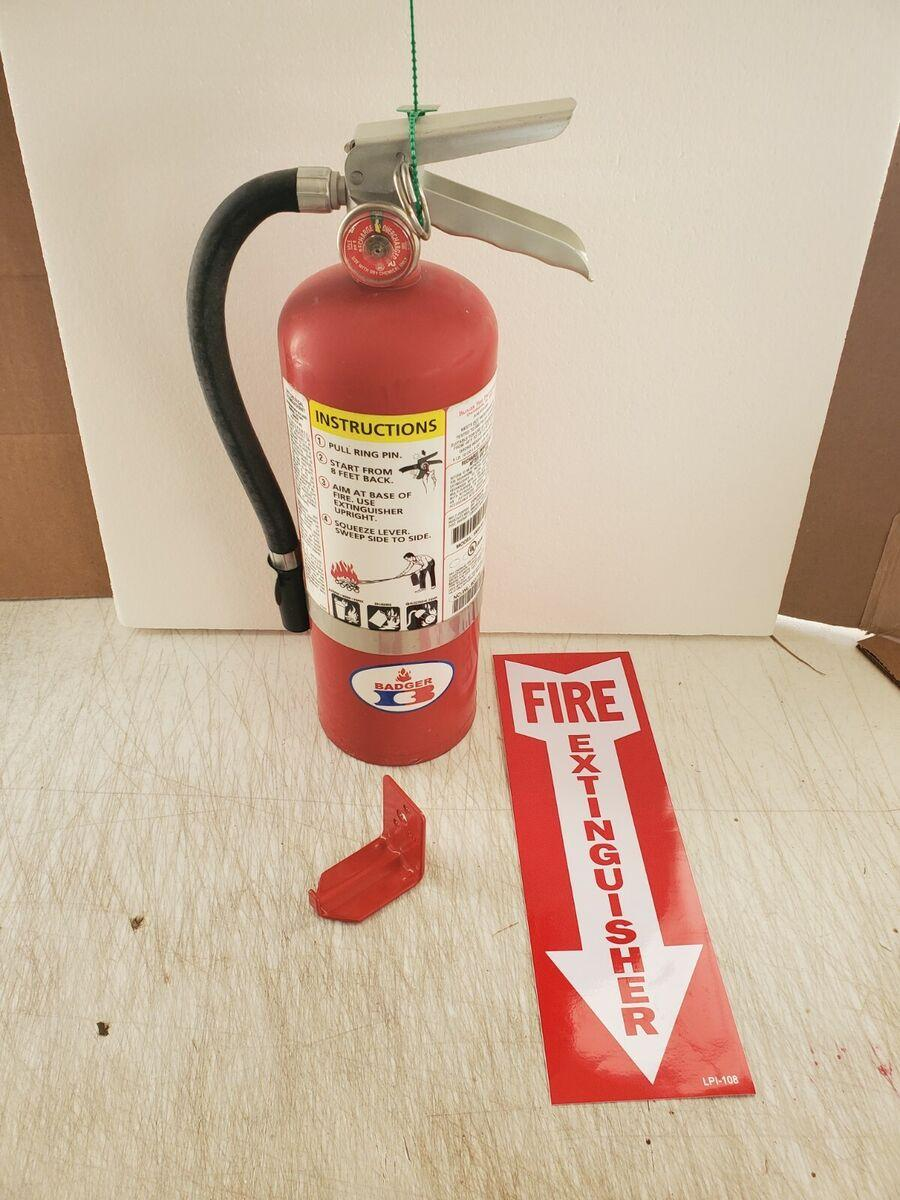floor-kept: (125, 70, 677, 815)
